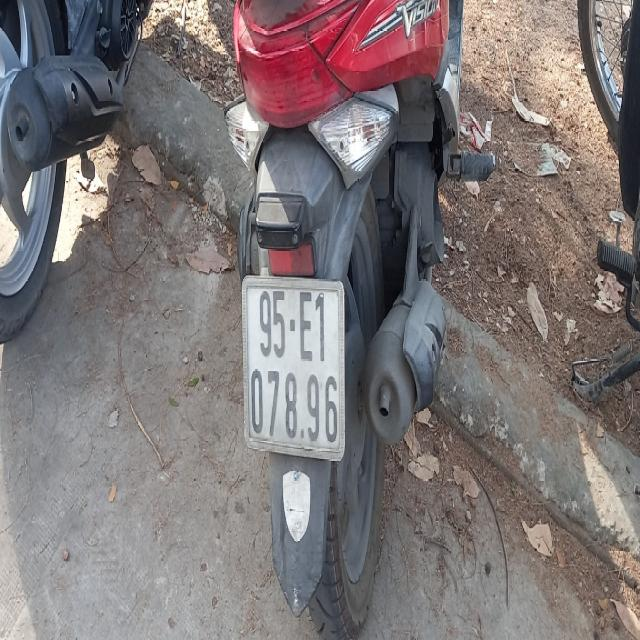1: (316, 288, 326, 366)
5: (272, 288, 286, 358)
6: (324, 375, 338, 446)
7: (267, 367, 280, 437)
8: (285, 371, 298, 438)
9: (306, 374, 321, 442), (259, 288, 272, 358)
E: (300, 290, 314, 360), (251, 368, 264, 436)
